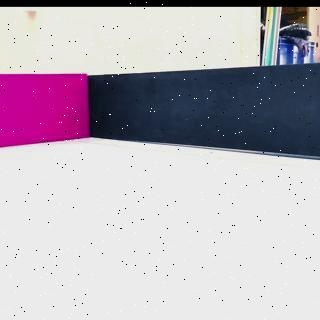xparking: (2, 77, 88, 138)
